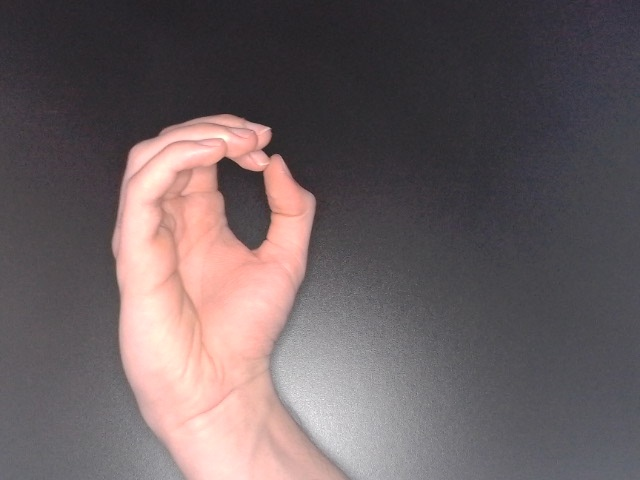o: (105, 109, 321, 450)
